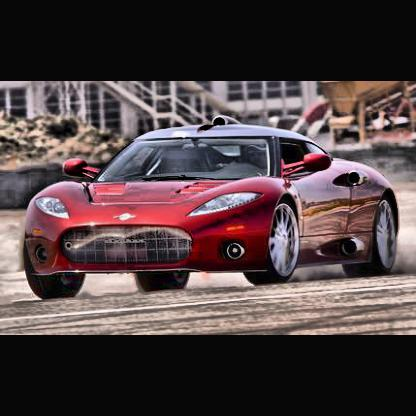Spyker C8 Coupe 2009: (21, 111, 404, 302)
